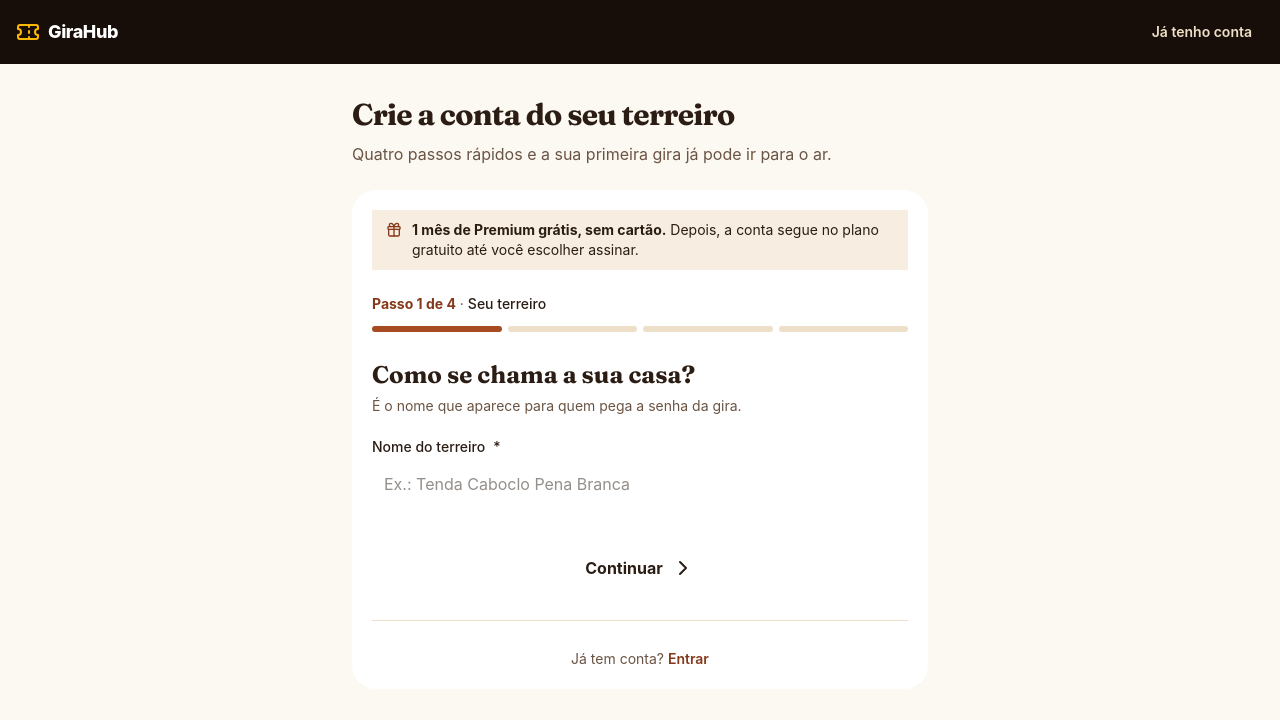
Cadastro em passos › mostra a prévia do link a partir do nome
This screenshot has width=1280, height=720.
In the field labelled "Nome do terreiro *": (640, 484) 372,460 -> 908,508, type "Tenda Caboclo Pena Branca"
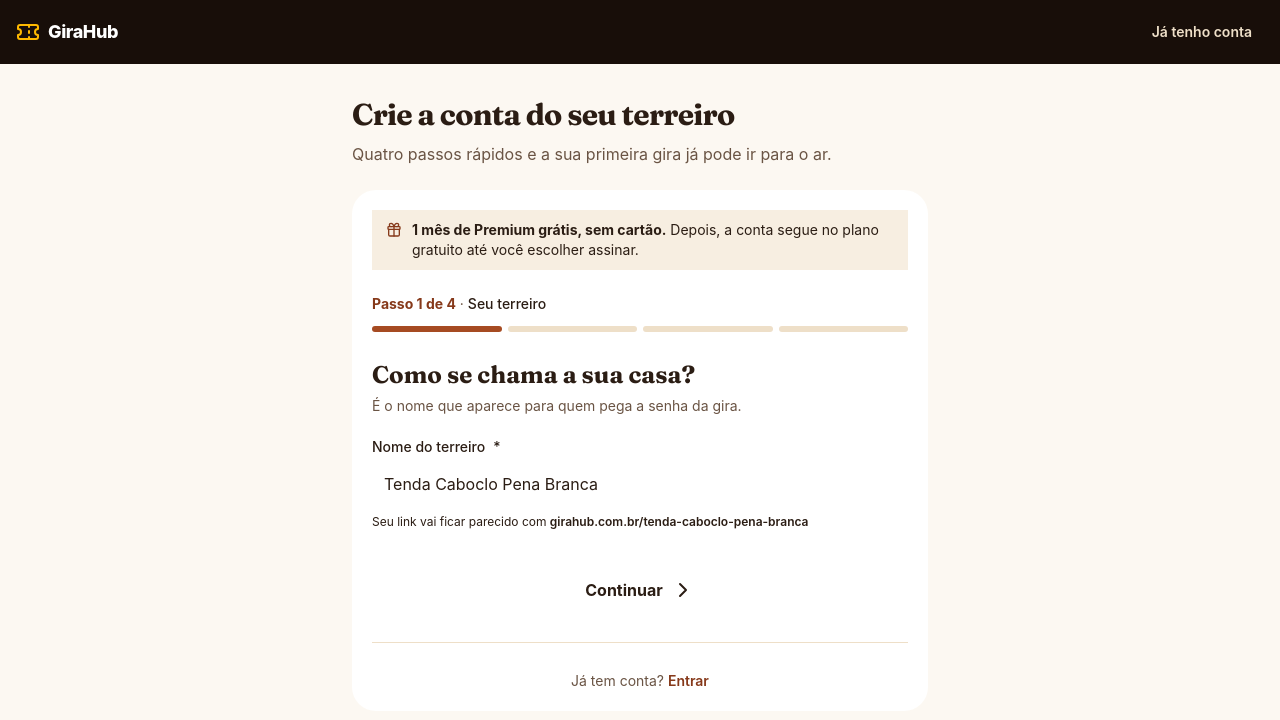
Now the text "girahub.com.br/tenda-caboclo-pena-branca" is shown, box 550,514 -> 808,528
